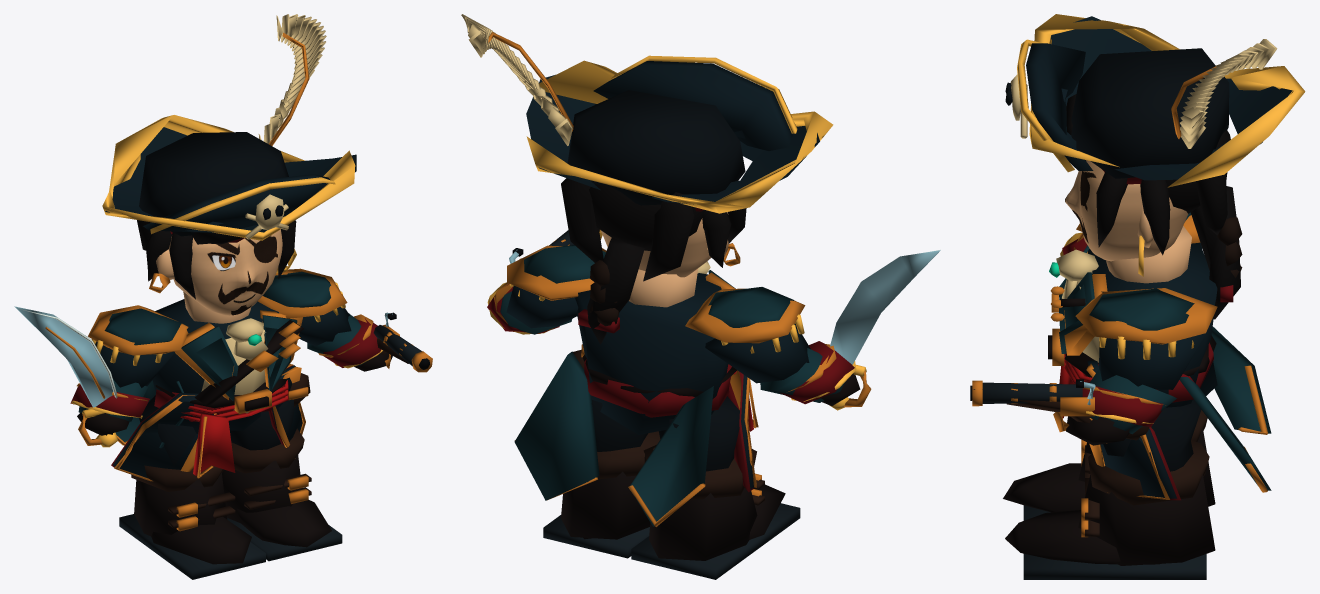
Rendered from pirate.glb.
The picture shows the model from 3 angles, left to right: view 1: azimuth 30°, elevation 25°; view 2: azimuth 150°, elevation 25°; view 3: azimuth 270°, elevation 25°; orthographic projection. The views are drawn at different scales.
Visible parts, largest first — view 1: Head_Geometry, Body_Geometry, Leg_R_Geometry, Leg_L_Geometry, Arm_R_Geometry, Arm_L_Geometry, Weapon_Cutlass_Geometry, Weapon_Pistol_Geometry; view 2: Head_Geometry, Body_Geometry, Leg_R_Geometry, Arm_R_Geometry, Leg_L_Geometry, Arm_L_Geometry, Weapon_Cutlass_Geometry; view 3: Head_Geometry, Leg_L_Geometry, Body_Geometry, Arm_L_Geometry, Leg_R_Geometry, Weapon_Pistol_Geometry, Arm_R_Geometry.
Boxes of the visible parts, bbox=[...] form: Head_Geometry: bbox=[102, 14, 356, 323]; Body_Geometry: bbox=[111, 299, 305, 481]; Leg_R_Geometry: bbox=[119, 395, 265, 579]; Leg_L_Geometry: bbox=[222, 399, 342, 561]; Arm_R_Geometry: bbox=[70, 305, 188, 435]; Arm_L_Geometry: bbox=[257, 268, 392, 371]; Weapon_Cutlass_Geometry: bbox=[14, 306, 118, 447]; Weapon_Pistol_Geometry: bbox=[373, 312, 432, 372]; Head_Geometry: bbox=[461, 14, 833, 344]; Body_Geometry: bbox=[514, 261, 758, 526]; Leg_R_Geometry: bbox=[631, 396, 800, 579]; Arm_R_Geometry: bbox=[685, 287, 860, 405]; Leg_L_Geometry: bbox=[543, 400, 660, 558]; Arm_L_Geometry: bbox=[487, 245, 606, 334]; Weapon_Cutlass_Geometry: bbox=[829, 249, 940, 410]; Head_Geometry: bbox=[1005, 14, 1305, 319]; Leg_L_Geometry: bbox=[1005, 399, 1215, 579]; Body_Geometry: bbox=[1048, 242, 1271, 500]; Arm_L_Geometry: bbox=[1066, 288, 1217, 445]; Leg_R_Geometry: bbox=[1003, 410, 1215, 520]; Weapon_Pistol_Geometry: bbox=[970, 379, 1106, 443]; Arm_R_Geometry: bbox=[1060, 212, 1202, 256].
Bounding box in the file's own units: 2.39 × 2.73 × 1.47.
2 materials, 2 textured.
